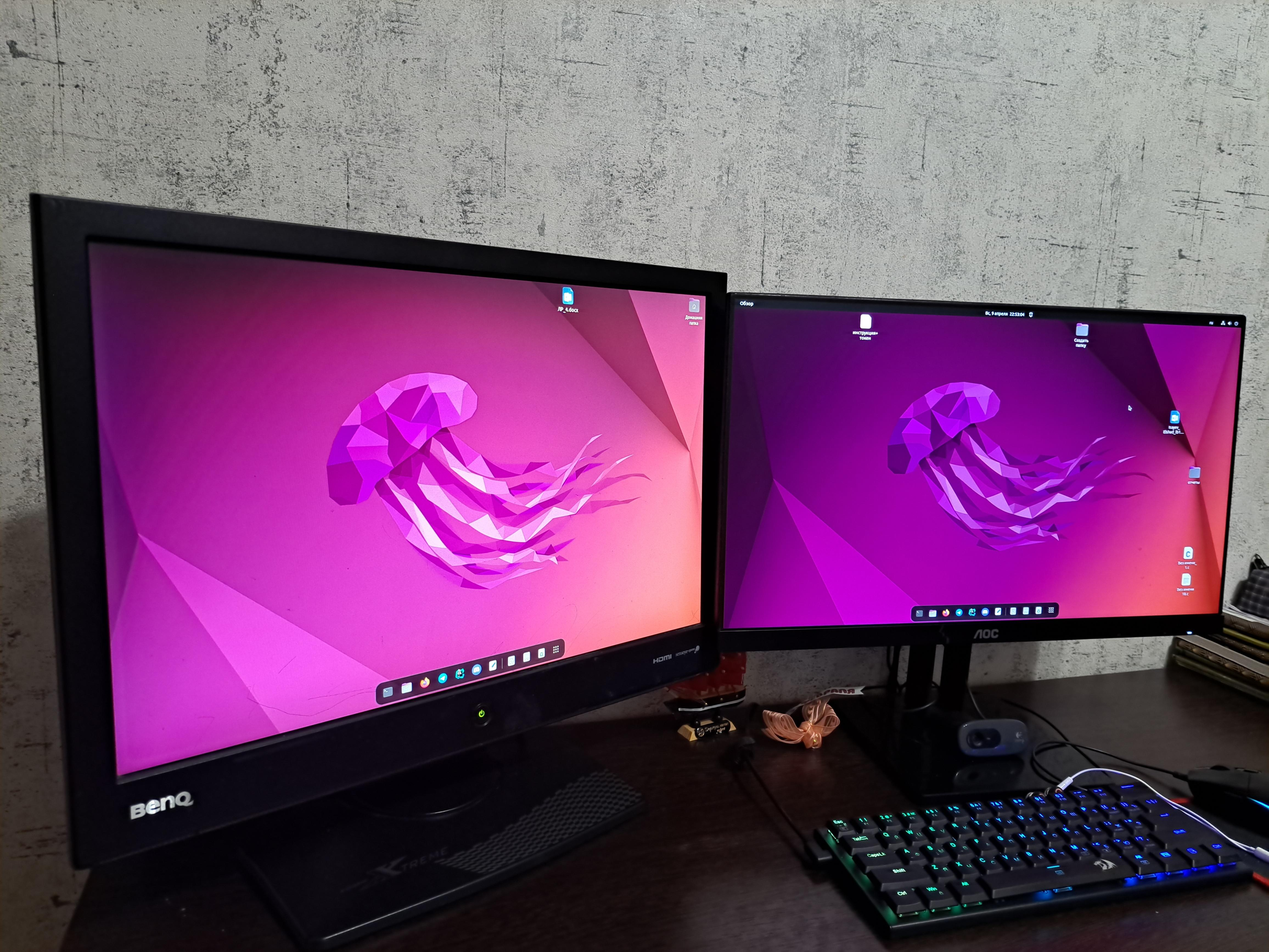monitor: (27, 189, 729, 874), (712, 288, 1250, 660)
